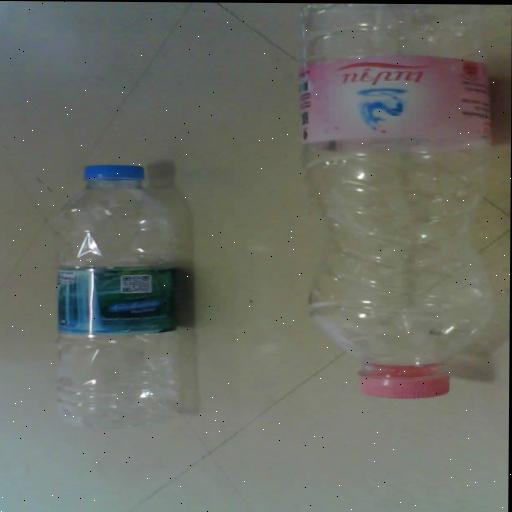bottle: (296, 2, 507, 394), (50, 165, 189, 425)
